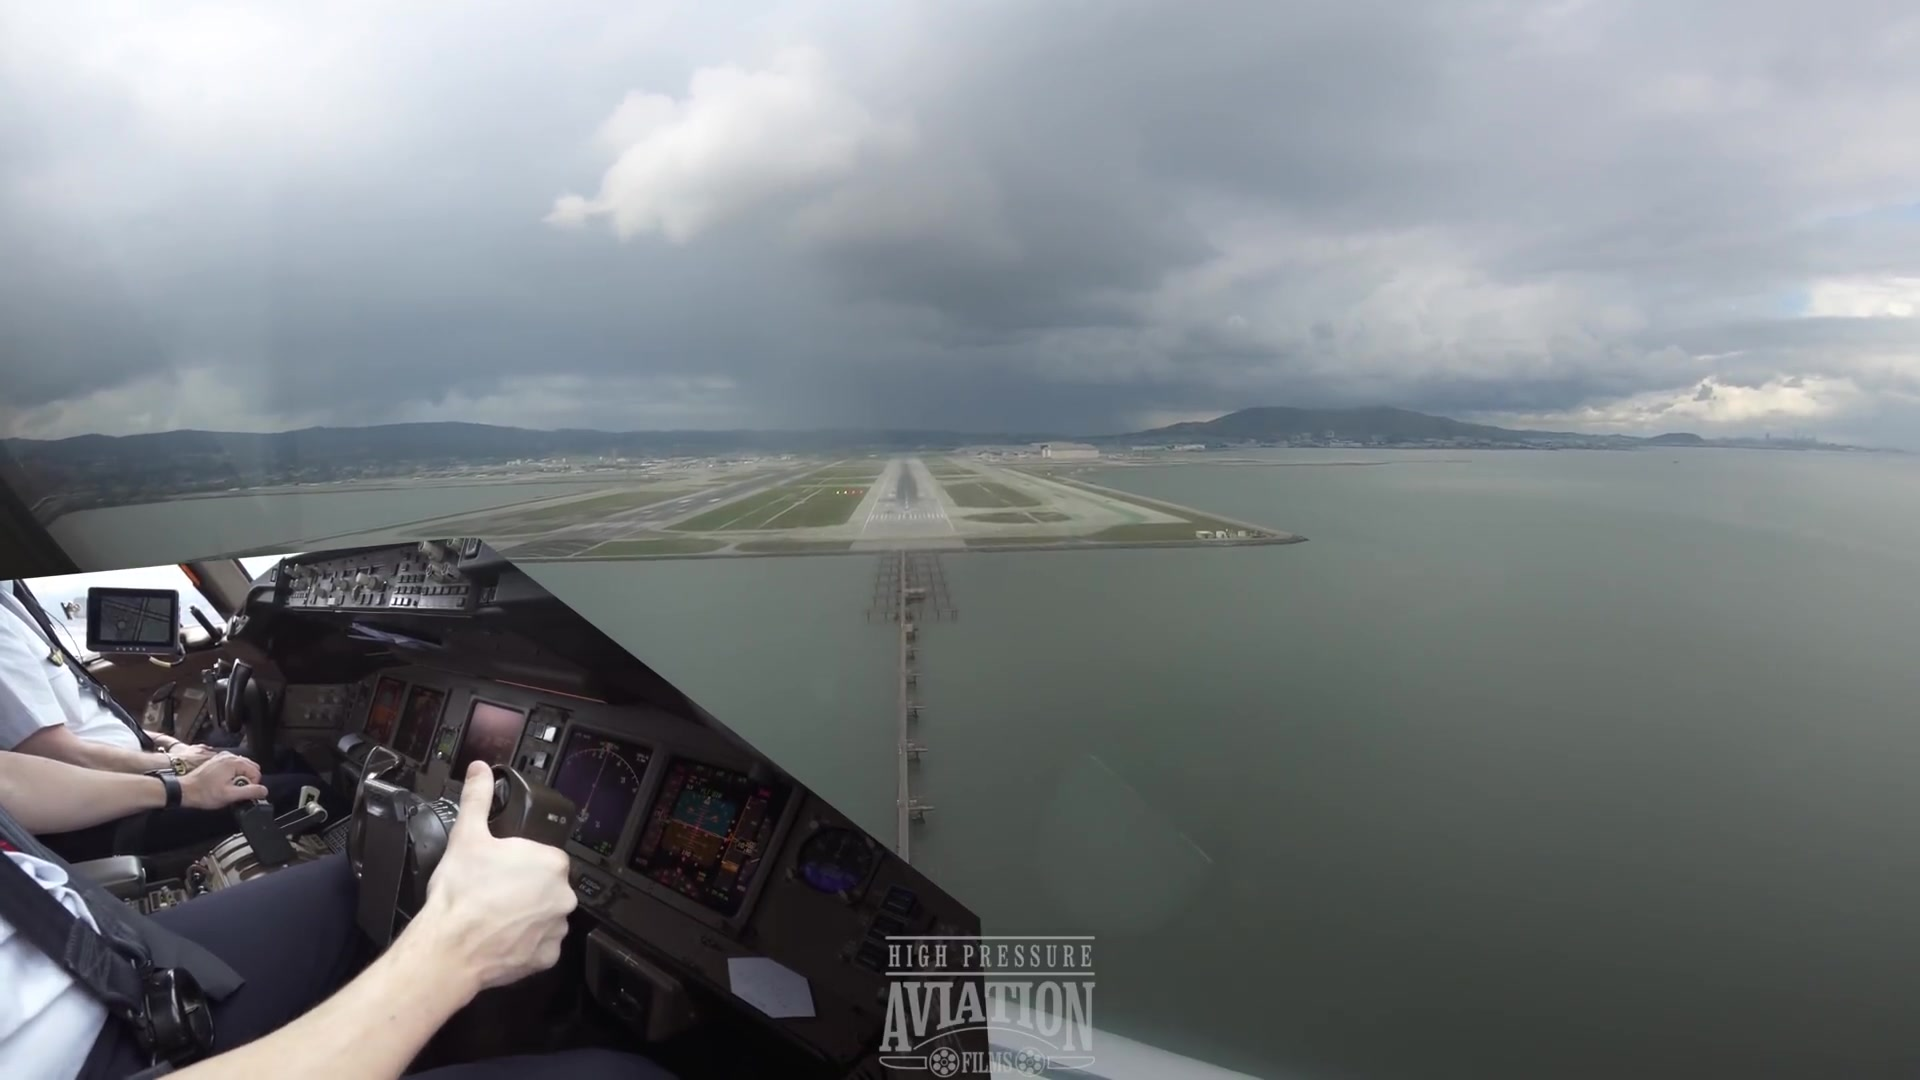entrance: (866, 508, 947, 521)
runway: (587, 463, 822, 531), (843, 458, 963, 541)
